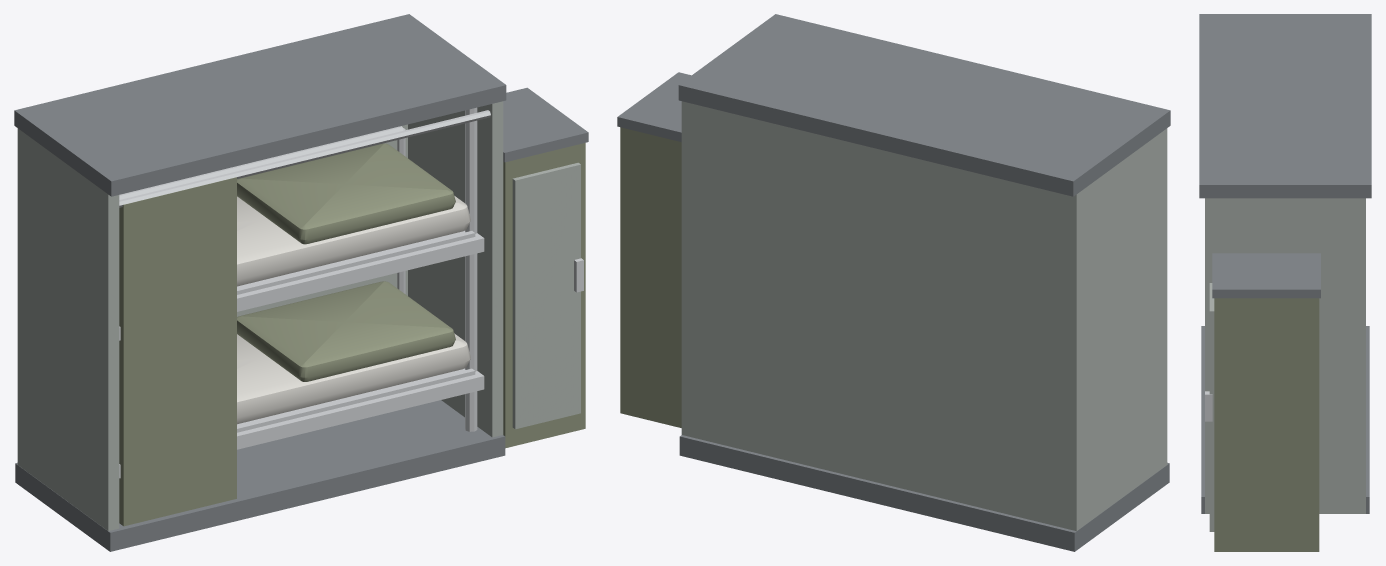
The model's file is cold-war-missile-silo-and-command-bunker-bunk-alcove-a0ad5dce__15669.glb.
The picture shows the model from 3 angles, left to right: view 1: azimuth 30°, elevation 25°; view 2: azimuth 150°, elevation 25°; view 3: azimuth 270°, elevation 25°; orthographic projection. The views are drawn at different scales.
Parts seen in each view (by area): view 1: bunk-alcove; view 2: bunk-alcove; view 3: bunk-alcove.
Part boxes in pixels (x1,y1,x2,y2): bunk-alcove: (14, 14, 588, 551); bunk-alcove: (617, 14, 1170, 551); bunk-alcove: (1199, 14, 1371, 551).
Bounding box in the file's own units: 2.65 × 1.94 × 0.9199.
